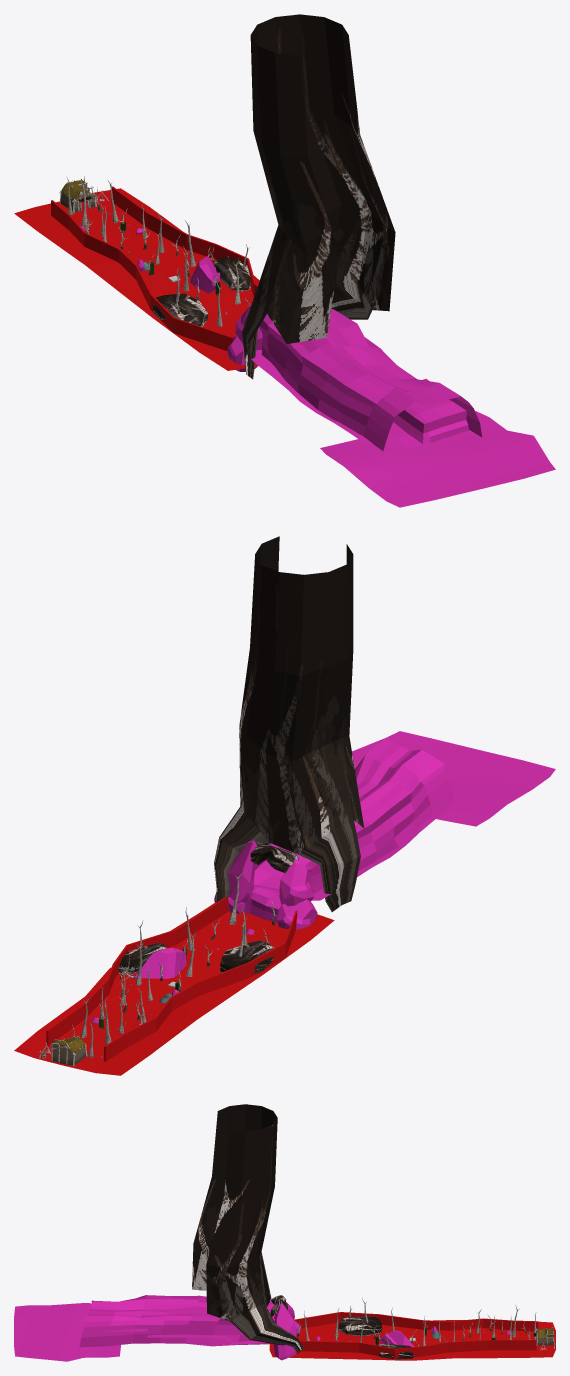
The model's file is map2.obj.
3 renders of one model, top to bottom at view 1: azimuth 30°, elevation 25°; view 2: azimuth 150°, elevation 25°; view 3: azimuth 270°, elevation 25°, orthographic. The views are drawn at different scales.
Parts seen in each view (by area): view 1: Cylinder, Plane.001, lvl_floor.001, lvl_floor, limite, Plane.002, limite.001, Plane, Sphere.017, Sphere.018, Sphere.014; view 2: Cylinder, lvl_floor, Plane.001, lvl_floor.001, limite, limite.001, Plane, Sphere.012, Sphere.010, Sphere.014, Sphere.017, transition_rock (+1 smaller); view 3: Cylinder, Plane.001, lvl_floor, lvl_floor.001, limite.001, limite, Sphere.017, Sphere.012, Plane.002, Sphere.014.
Part boxes in pixels (x1,y1,x2,y2): Cylinder: (242, 14, 395, 379); Plane.001: (259, 309, 482, 451); lvl_floor.001: (320, 411, 555, 507); lvl_floor: (14, 188, 259, 370); limite: (51, 200, 233, 350); Plane.002: (393, 378, 468, 444); limite.001: (111, 186, 257, 297); Plane: (243, 350, 424, 450); Sphere.017: (153, 293, 208, 326); Sphere.018: (216, 257, 250, 290); Sphere.014: (190, 256, 220, 293); Cylinder: (214, 536, 364, 911); lvl_floor: (14, 902, 334, 1075); Plane.001: (255, 738, 454, 893); lvl_floor.001: (352, 731, 555, 826); limite: (104, 910, 297, 1061); limite.001: (46, 896, 229, 1045); Plane: (254, 800, 456, 900); Sphere.012: (214, 840, 257, 911); Sphere.010: (279, 859, 314, 906); Sphere.014: (134, 947, 186, 978); Sphere.017: (220, 940, 274, 973); transition_rock: (244, 884, 281, 922); Cylinder: (192, 1104, 303, 1353); Plane.001: (79, 1295, 274, 1347); lvl_floor: (269, 1320, 555, 1360); lvl_floor.001: (14, 1303, 120, 1361); limite.001: (299, 1340, 536, 1359); limite: (294, 1312, 538, 1331); Sphere.017: (338, 1316, 382, 1335); Sphere.012: (273, 1303, 296, 1360); Plane.002: (94, 1328, 232, 1344); Sphere.014: (380, 1330, 414, 1346).
Bounding box in the file's own units: 45.84 × 86.06 × 185.
